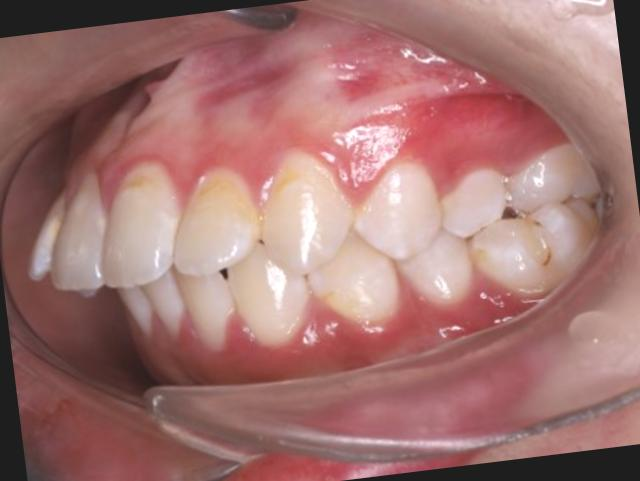canine class I: (211, 129, 407, 370)
molar class III 1/2: (458, 135, 616, 314)
